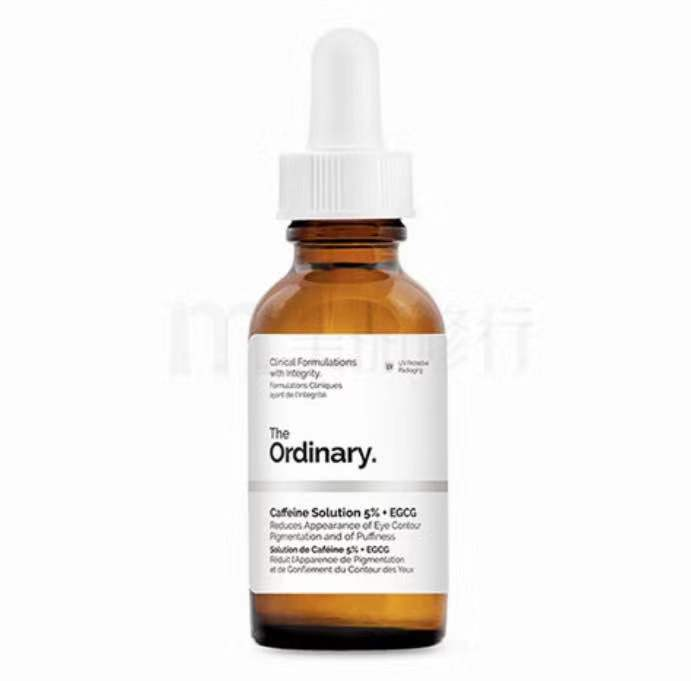cosmetic: (246, 30, 449, 646)
